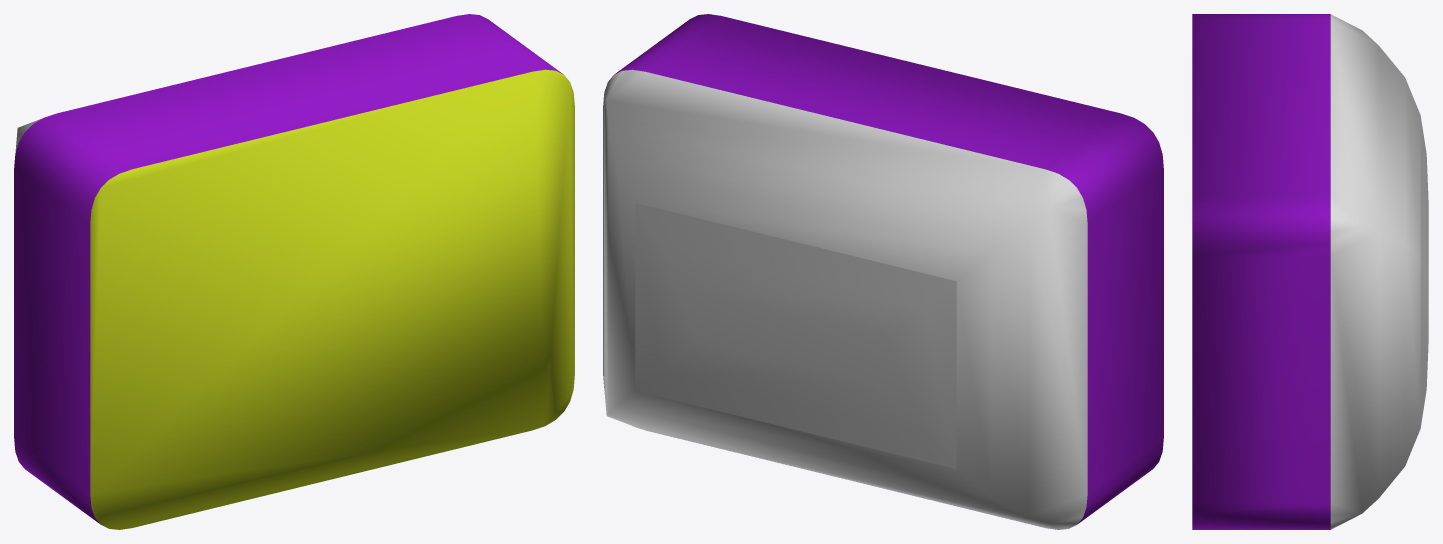
Rendered from EmergencyLight.fbx.
The picture shows the model from 3 angles, left to right: view 1: azimuth 30°, elevation 25°; view 2: azimuth 150°, elevation 25°; view 3: azimuth 270°, elevation 25°; orthographic projection. The views are drawn at different scales.
Visible parts, largest first — view 1: Box001; view 2: Cristal, Box001; view 3: Box001, Cristal.
Boxes of the visible parts, x1,y1,x2,y2 form: Box001: (14,14,574,529); Cristal: (603,69,1087,529); Box001: (603,14,1163,529); Box001: (1192,14,1330,529); Cristal: (1330,14,1428,529).
Size of the model in its own units: 1.15 by 0.8129 by 0.5339.
